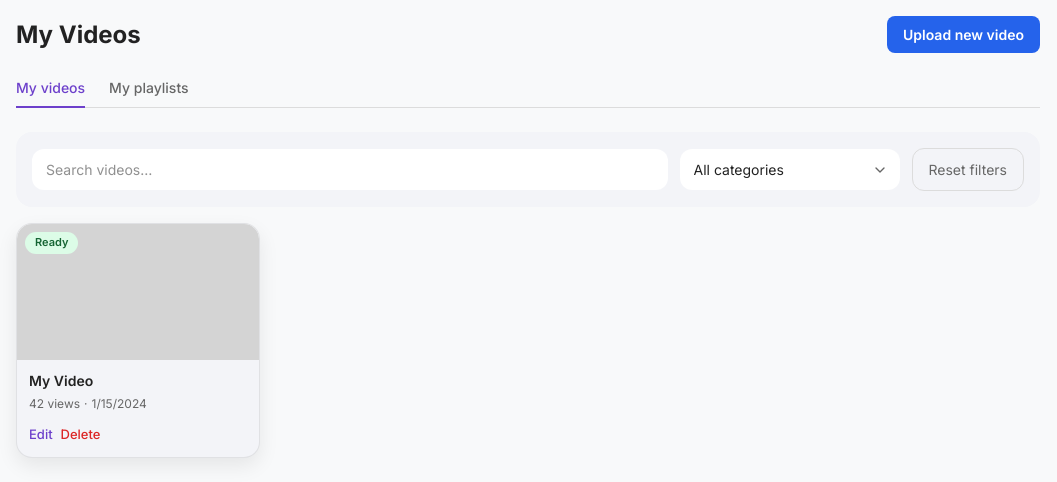
it: DashboardPage › shows confirm/cancel buttons after clicking Delete
Click the button with aria-label "delete my video": (81, 435) [61,425,100,444]
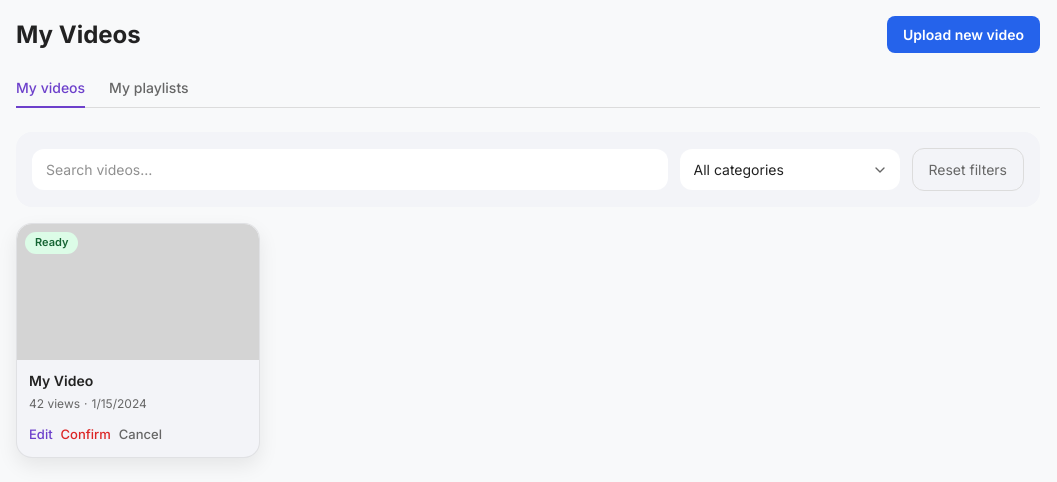
Expected: the button "Confirm" is shown, [61,425,111,444]
Expected: the button "Cancel" is shown, [119,425,162,444]
